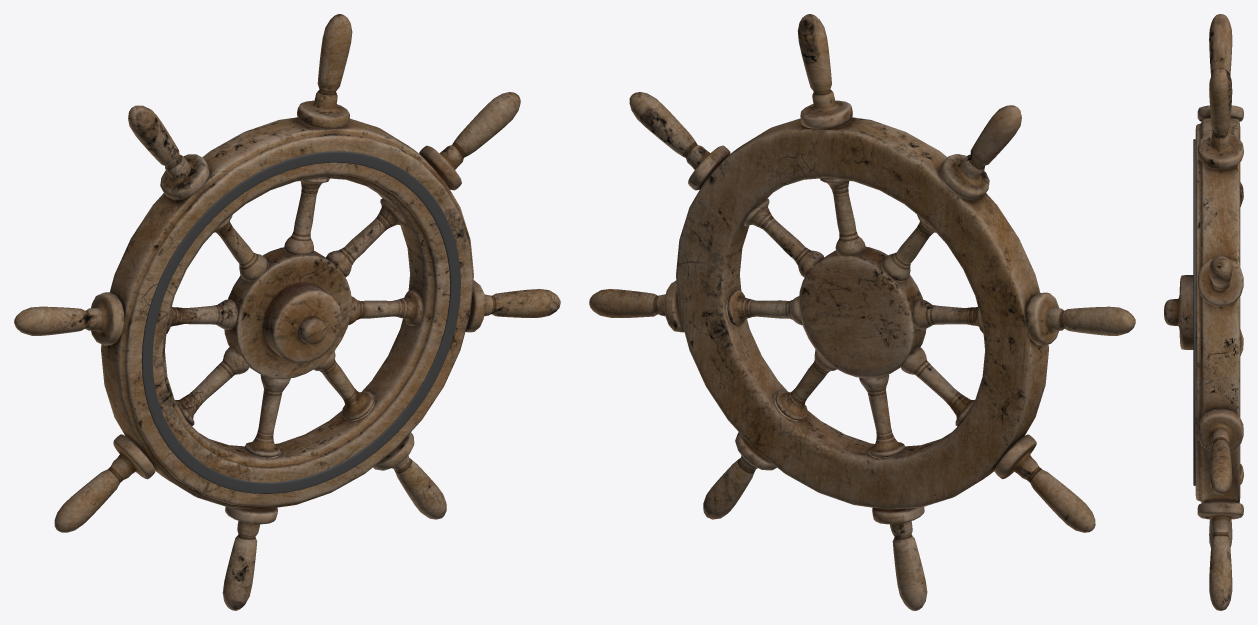
Rendered from Timon final scketfab.fbx.
3 renders of one model, left to right at view 1: azimuth 30°, elevation 25°; view 2: azimuth 150°, elevation 25°; view 3: azimuth 270°, elevation 25°, orthographic. The views are drawn at different scales.
Parts seen in each view (by area): view 1: Plane.003, Retopo_Plane.005, Plane.004; view 2: Plane.003, Retopo_Plane.005; view 3: Plane.003, Retopo_Plane.005, Plane.004.
Part boxes in pixels (x1,y1,x2,y2): Plane.003: (101,117,473,509); Retopo_Plane.005: (14,14,560,610); Plane.004: (141,151,460,493); Plane.003: (676,117,1048,509); Retopo_Plane.005: (589,14,1135,610); Plane.003: (1164,118,1240,502); Retopo_Plane.005: (1197,14,1243,610); Plane.004: (1193,139,1195,485).
Bounding box in the file's own units: 344 × 344 × 46.38.
Materials: 2 (1 with a texture image).
